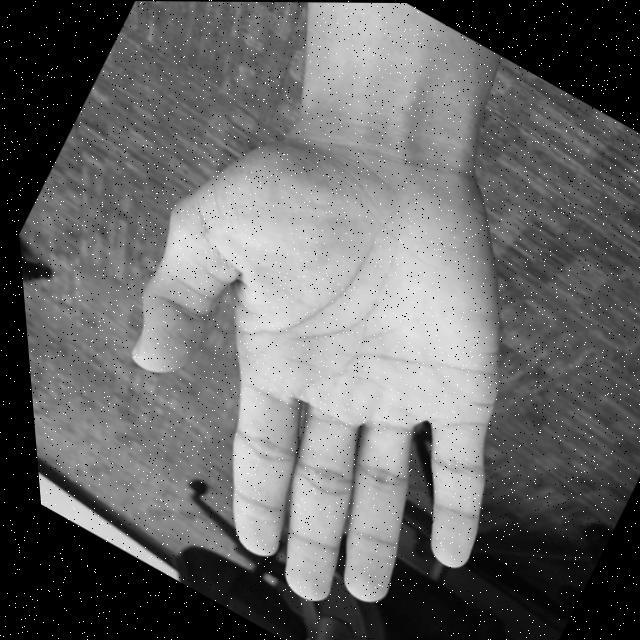no-gloves: (18, 56, 640, 640)
